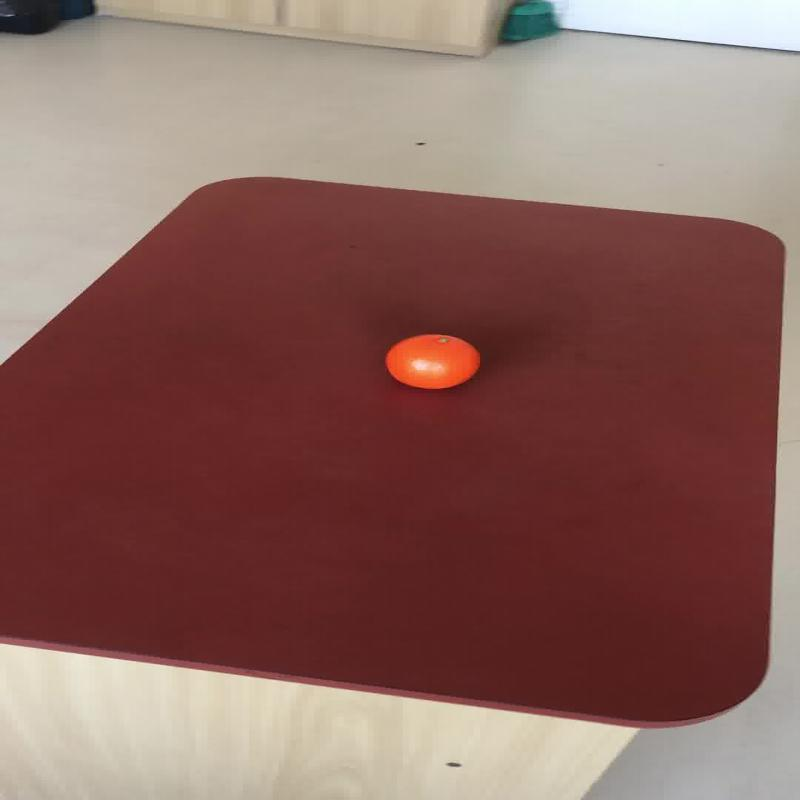orange: (382, 333, 480, 389)
